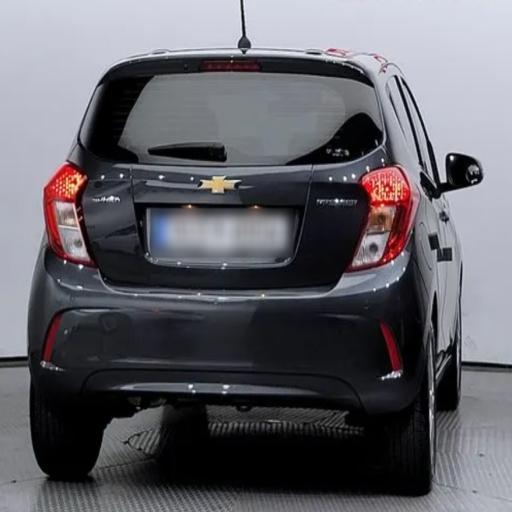normal: (43, 16, 456, 497)
